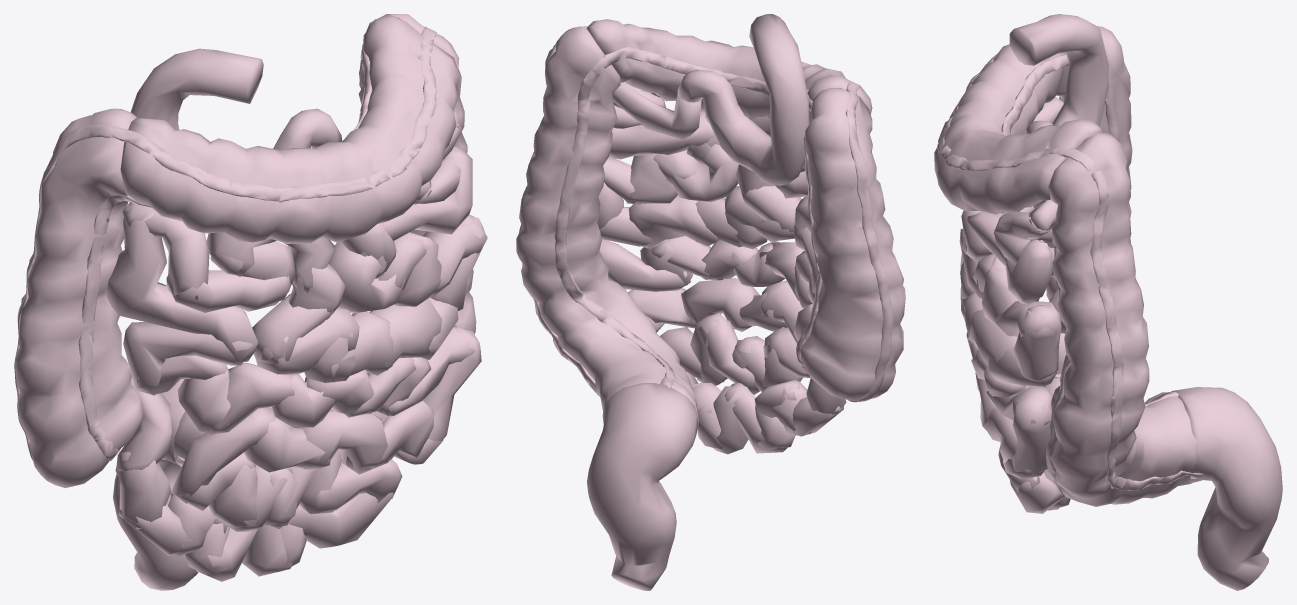
Rendered from intestines.glb.
The picture shows the model from 3 angles, left to right: view 1: azimuth 30°, elevation 25°; view 2: azimuth 150°, elevation 25°; view 3: azimuth 270°, elevation 25°; orthographic projection. The views are drawn at different scales.
Visible parts, largest first — view 1: intestines; view 2: intestines; view 3: intestines.
Boxes of the visible parts, left/top/right/bottom form: intestines: left=14, top=14, right=487, bottom=590; intestines: left=516, top=14, right=905, bottom=590; intestines: left=934, top=14, right=1282, bottom=590.
Size of the model in its own units: 0.1424 by 0.1859 by 0.1081.
